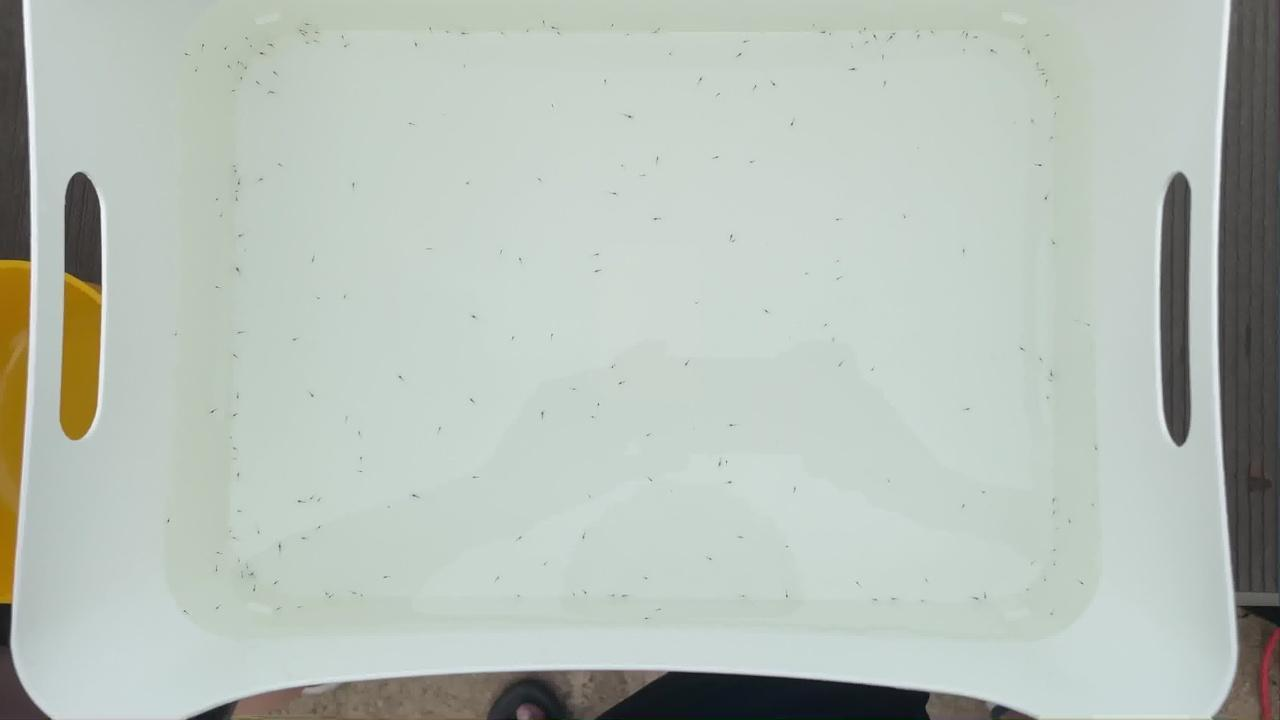shrimp: (607, 22, 619, 30), (623, 32, 635, 40), (649, 30, 661, 38), (654, 25, 666, 33), (665, 51, 677, 59), (598, 77, 610, 85), (623, 112, 635, 120), (695, 74, 707, 82), (714, 93, 726, 101), (750, 83, 762, 91), (769, 80, 781, 88), (734, 50, 746, 58), (740, 38, 752, 46), (820, 28, 832, 36), (848, 65, 860, 73), (846, 40, 858, 48), (864, 40, 876, 48), (869, 34, 881, 42), (859, 24, 871, 32), (854, 30, 866, 38), (879, 54, 891, 62), (879, 77, 891, 85), (886, 35, 898, 43), (889, 31, 901, 39), (914, 34, 926, 42), (912, 26, 924, 34), (925, 30, 937, 38), (958, 30, 970, 38), (962, 33, 974, 41), (971, 34, 983, 42), (959, 48, 971, 56), (989, 47, 1001, 55), (1017, 33, 1029, 41), (1043, 32, 1055, 40), (1023, 49, 1035, 57), (1032, 60, 1044, 68), (1037, 66, 1049, 74), (1040, 70, 1052, 78), (1043, 78, 1055, 86), (1054, 94, 1066, 102), (1049, 113, 1061, 121), (1027, 118, 1039, 126), (1047, 134, 1059, 142), (1035, 163, 1047, 171), (1043, 195, 1055, 203), (787, 120, 799, 128), (747, 160, 759, 168), (711, 153, 723, 161), (652, 154, 664, 162), (638, 172, 650, 180), (619, 162, 631, 170), (610, 187, 622, 195), (652, 216, 664, 224), (592, 267, 604, 275), (591, 251, 603, 259), (725, 234, 737, 242), (833, 216, 845, 224), (900, 212, 912, 220), (958, 249, 970, 257), (1049, 239, 1061, 247), (1015, 347, 1027, 355), (1083, 321, 1095, 329), (1035, 357, 1047, 365), (1047, 372, 1059, 380), (1046, 377, 1058, 385), (1044, 393, 1056, 401), (963, 406, 975, 414), (867, 365, 879, 373), (835, 362, 847, 370), (827, 335, 839, 343), (820, 321, 832, 329), (833, 277, 845, 285), (834, 257, 846, 265), (801, 271, 813, 279), (762, 307, 774, 315), (691, 300, 703, 308), (682, 360, 694, 368), (617, 380, 629, 388), (607, 362, 619, 370), (548, 332, 560, 340), (536, 411, 548, 419), (570, 385, 582, 393), (588, 414, 600, 422), (594, 401, 606, 409), (643, 432, 655, 440), (647, 477, 659, 485), (725, 421, 737, 429), (713, 462, 725, 470), (723, 459, 735, 467), (724, 479, 736, 487), (789, 487, 801, 495), (883, 478, 895, 486), (959, 502, 971, 510), (980, 488, 992, 496), (1091, 445, 1103, 453), (1048, 498, 1060, 506), (1048, 509, 1060, 517), (1064, 518, 1076, 526), (1089, 501, 1101, 509), (1040, 578, 1052, 586), (1050, 560, 1062, 568), (1049, 545, 1061, 553), (1076, 581, 1088, 589), (1046, 610, 1058, 618), (1021, 585, 1033, 593), (979, 592, 991, 600), (969, 595, 981, 603), (920, 577, 932, 585), (888, 596, 900, 604), (869, 595, 881, 603), (852, 580, 864, 588), (781, 592, 793, 600), (736, 593, 748, 601), (704, 556, 716, 564), (736, 532, 748, 540), (782, 544, 794, 552), (640, 616, 652, 624), (654, 606, 666, 614), (641, 573, 653, 581), (619, 593, 631, 601), (608, 593, 620, 601), (580, 588, 592, 596), (567, 591, 579, 599), (580, 531, 592, 539), (585, 492, 597, 500), (541, 562, 553, 570), (180, 607, 192, 615), (212, 605, 224, 613), (273, 606, 285, 614), (297, 604, 309, 612), (326, 593, 338, 601), (322, 588, 334, 596), (349, 588, 361, 596), (357, 592, 369, 600), (380, 574, 392, 582), (494, 573, 506, 581), (514, 593, 526, 601), (515, 534, 527, 542), (470, 475, 482, 483), (435, 427, 447, 435), (408, 492, 420, 500), (355, 467, 367, 475), (357, 453, 369, 461), (354, 430, 366, 438), (341, 414, 353, 422), (305, 391, 317, 399), (295, 496, 307, 504), (307, 495, 319, 503), (314, 498, 326, 506), (315, 524, 327, 532), (299, 537, 311, 545), (274, 542, 286, 550), (270, 580, 282, 588), (248, 587, 260, 595), (247, 572, 259, 580), (242, 562, 254, 570), (237, 570, 249, 578), (232, 558, 244, 566), (210, 567, 222, 575), (214, 549, 226, 557), (162, 517, 174, 525), (230, 536, 242, 544), (225, 529, 237, 537), (254, 530, 266, 538), (234, 507, 246, 515), (232, 472, 244, 480), (229, 457, 241, 465), (230, 446, 242, 454), (226, 435, 238, 443), (207, 407, 219, 415), (230, 413, 242, 421), (233, 392, 245, 400), (229, 350, 241, 358), (236, 329, 248, 337), (290, 337, 302, 345), (395, 375, 407, 383), (467, 397, 479, 405), (509, 333, 521, 341), (468, 312, 480, 320), (312, 294, 324, 302), (341, 293, 353, 301), (308, 254, 320, 262), (230, 265, 242, 273), (213, 283, 225, 291), (236, 232, 248, 240), (215, 212, 227, 220), (212, 195, 224, 203), (231, 197, 243, 205), (234, 180, 246, 188), (229, 167, 241, 175), (228, 163, 240, 171), (257, 178, 269, 186), (275, 161, 287, 169), (348, 181, 360, 189), (424, 245, 436, 253), (496, 248, 508, 256), (515, 257, 527, 265), (536, 177, 548, 185), (460, 180, 472, 188), (549, 104, 561, 112), (405, 119, 417, 127), (459, 63, 471, 71), (496, 30, 508, 38), (523, 27, 535, 35), (538, 18, 550, 26), (551, 25, 563, 33), (554, 31, 566, 39), (459, 31, 471, 39), (442, 28, 454, 36), (425, 24, 437, 32), (412, 41, 424, 49), (340, 44, 352, 52), (339, 34, 351, 42), (311, 30, 323, 38), (302, 21, 314, 29), (297, 27, 309, 35), (300, 32, 312, 40), (303, 39, 315, 47), (311, 37, 323, 45), (266, 88, 278, 96), (270, 70, 282, 78), (254, 79, 266, 87), (227, 88, 239, 96), (236, 74, 248, 82), (224, 62, 236, 70), (232, 59, 244, 67), (242, 66, 254, 74), (245, 42, 257, 50), (256, 49, 268, 57), (265, 40, 277, 48), (241, 35, 253, 43), (222, 45, 234, 53), (198, 42, 210, 50), (181, 51, 193, 59), (191, 66, 203, 74)
